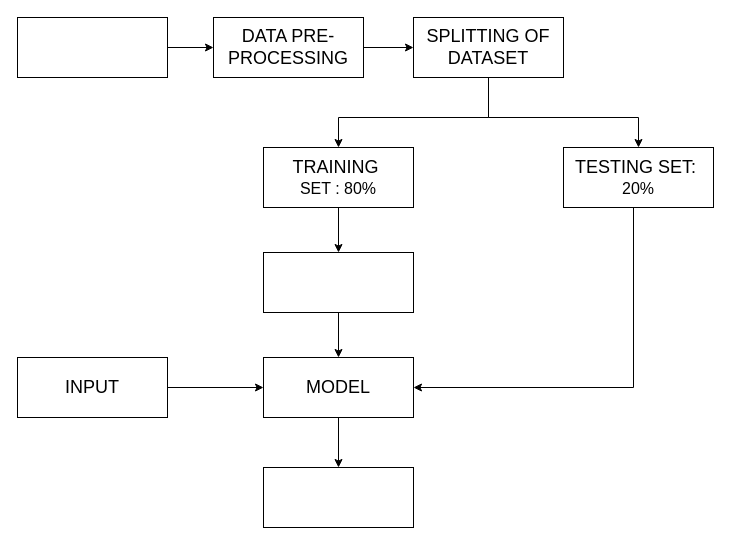
This 731x545 diagram has some shape labels left out. Each missing label, with the centre of its shape:
CNN ARCHITECTURE: (338,282)
DATASET COLLECTION: (92,47)
STAR-GALAXY CLASSIFICATION: (338,497)
